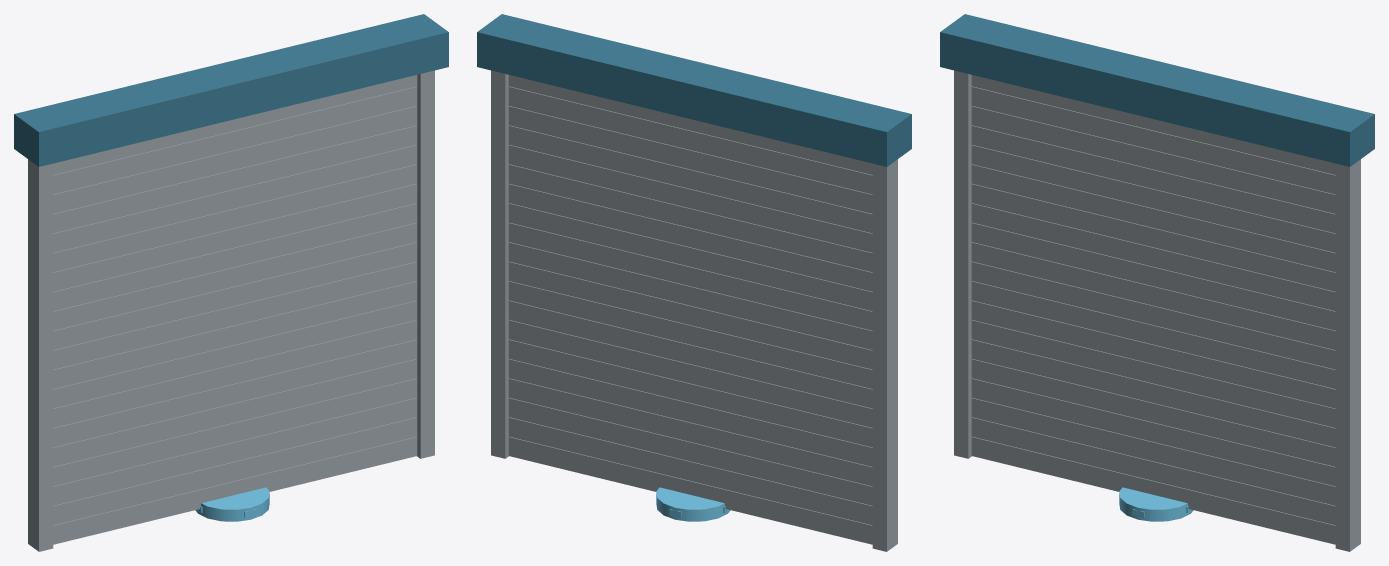
3 views of the same model, side by side, from view 1: azimuth 30°, elevation 25°; view 2: azimuth 150°, elevation 25°; view 3: azimuth 330°, elevation 25° (orthographic).
Visible parts, largest first — view 1: housing, post0, slat14, slat2, slat9, slat13, slat3, slat1, slat10, slat15, slat16, slat18 (+12 smaller); view 2: housing, post0, slat14, slat2, slat9, slat13, slat3, slat1, slat10, slat15, slat16, slat18 (+12 smaller); view 3: housing, post1, slat14, slat2, slat9, slat13, slat3, slat1, slat10, slat15, slat16, slat18 (+12 smaller).
Part boxes in pixels (x1,y1,x2,y2): housing: (14,14,448,166); post0: (28,159,53,551); slat14: (53,164,417,272); slat2: (53,397,417,505); slat9: (53,261,417,369); slat13: (53,183,417,291); slat3: (53,378,417,486); slat1: (53,417,417,525); slat10: (53,242,417,349); slat15: (53,145,417,252); slat16: (53,125,417,233); slat18: (53,86,417,194); housing: (477,14,911,166); post0: (872,159,897,551); slat14: (508,164,872,272); slat2: (508,397,872,505); slat9: (508,261,872,369); slat13: (508,183,872,291); slat3: (508,378,872,486); slat1: (508,417,872,525); slat10: (508,242,872,349); slat15: (508,145,872,252); slat16: (508,125,872,233); slat18: (508,86,872,194); housing: (940,14,1374,166); post1: (1335,159,1360,551); slat14: (971,164,1335,272); slat2: (971,397,1335,505); slat9: (971,261,1335,369); slat13: (971,183,1335,291); slat3: (971,378,1335,486); slat1: (971,417,1335,525); slat10: (971,242,1335,349); slat15: (971,145,1335,252); slat16: (971,125,1335,233); slat18: (971,86,1335,194).
Size of the model in its own units: 4.3 by 4.34 by 0.7.
